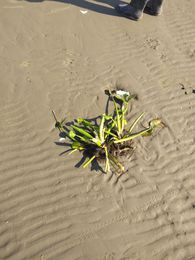water_hyacinth: (61, 90, 163, 177)
